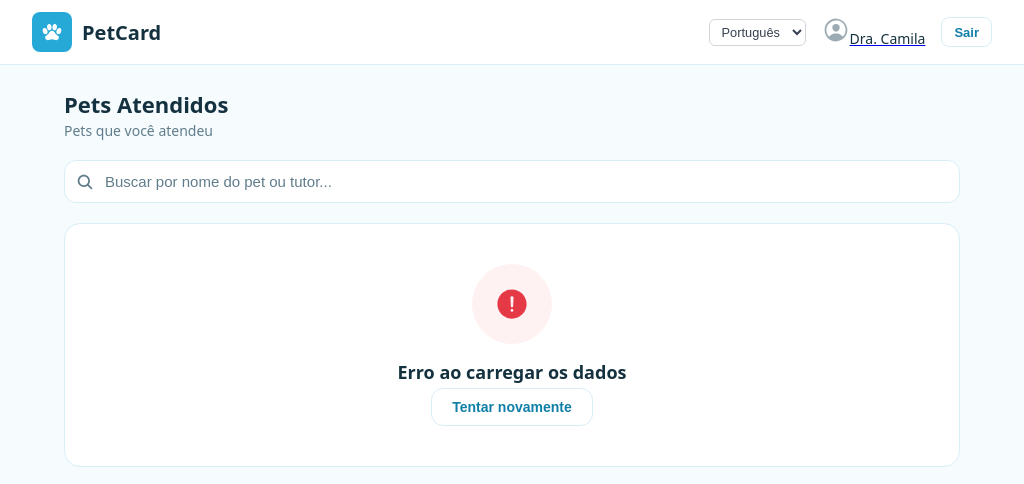
Test: VetDashboardPage › mostra erro e refaz a busca ao clicar em tentar novamente
Click the button "Tentar novamente" at (512, 407), box [431,388,593,426]
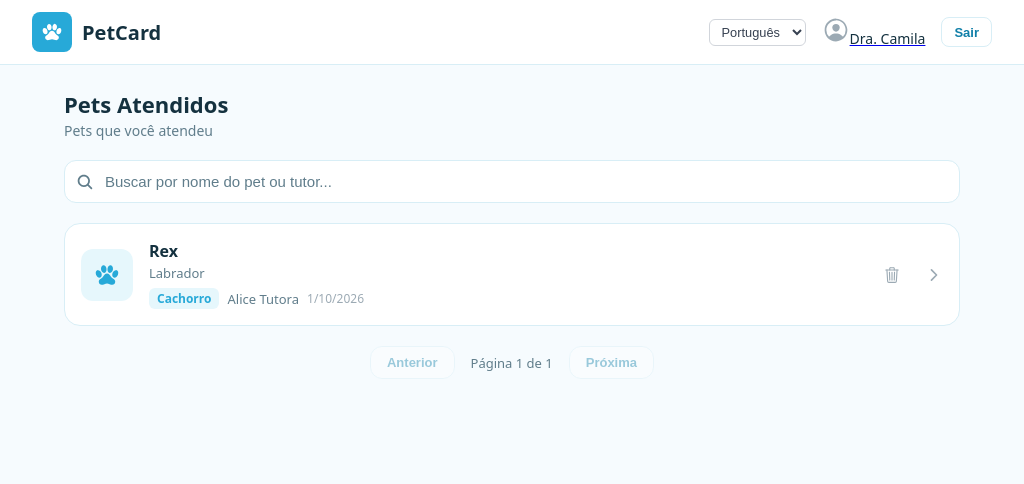
Expected: the text "Rex" is shown, [149,240,178,262]
